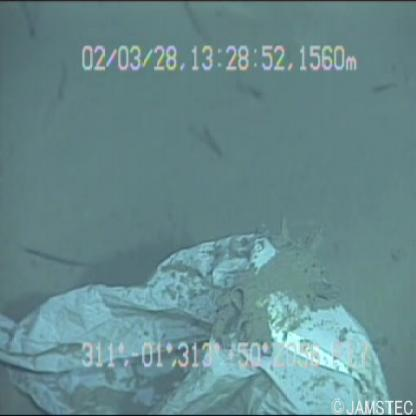Rác: (2, 217, 400, 416)
